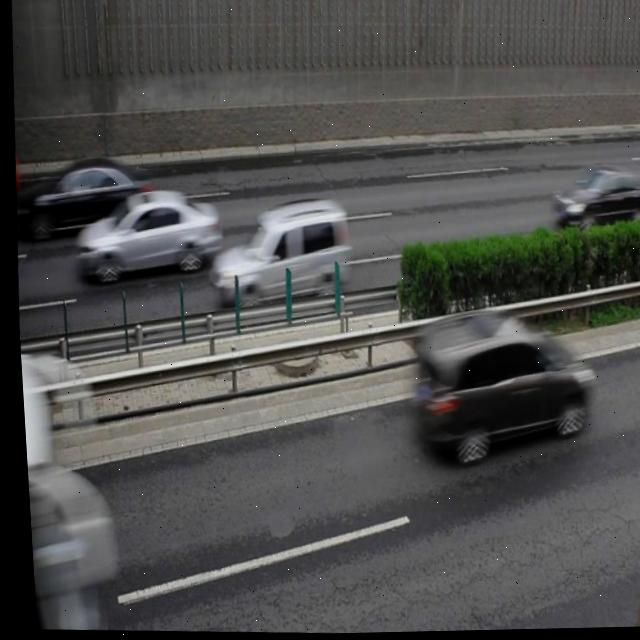car: (202, 194, 352, 310), (68, 184, 220, 287), (33, 152, 153, 245), (547, 165, 640, 246)
truck: (402, 308, 591, 467)
